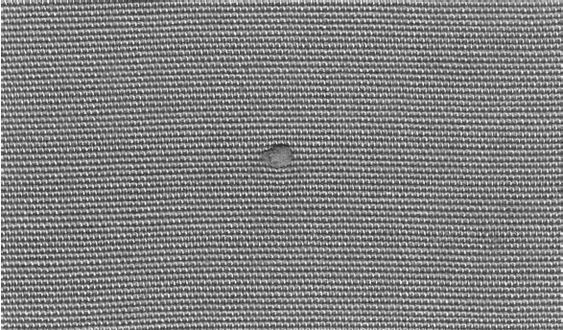Hole: (231, 121, 338, 194)
